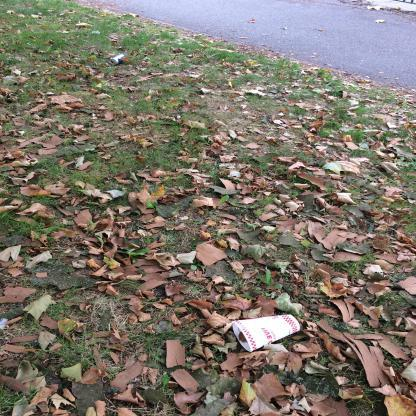karton: (231, 314, 303, 354)
